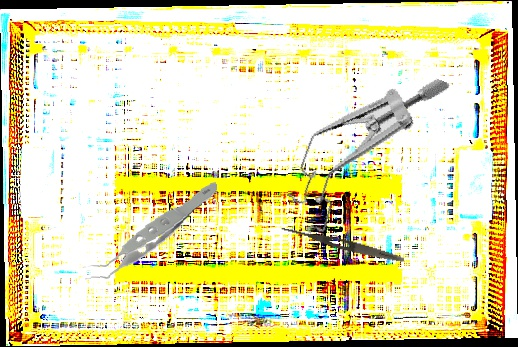Dressing Forceps: (279, 223, 406, 266)
Speculum: (272, 41, 454, 263)
Tissue Forceps: (75, 180, 226, 282)
